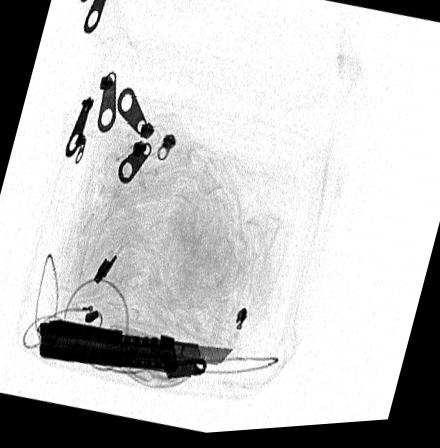Knife: (36, 319, 234, 383)
